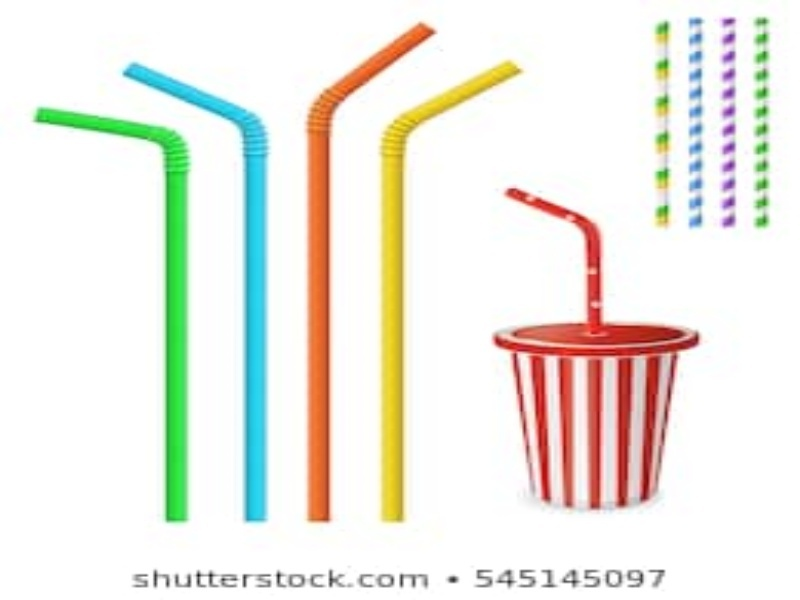plastic-cup: (490, 318, 698, 509)
straw: (111, 51, 271, 527), (28, 102, 194, 523), (304, 15, 442, 521), (380, 57, 528, 527), (501, 179, 617, 329), (715, 12, 745, 232), (645, 18, 674, 233), (682, 11, 708, 231), (752, 15, 777, 232)
